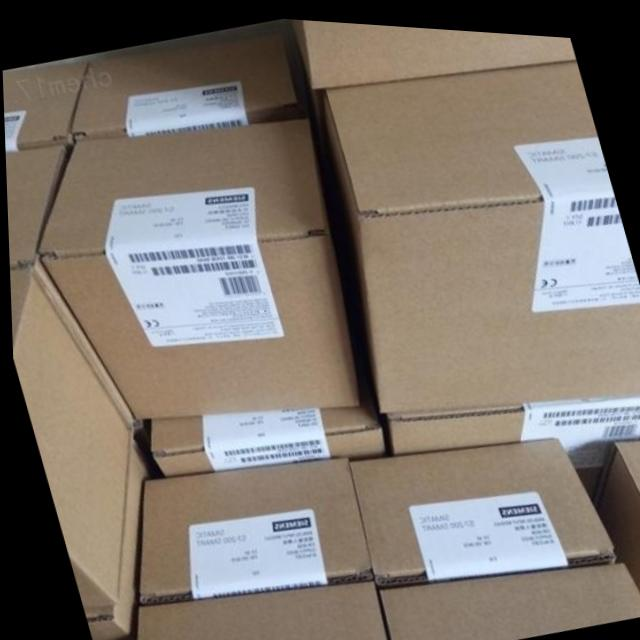box: (322, 51, 640, 409), (34, 114, 357, 420), (8, 257, 127, 614), (345, 429, 618, 584), (132, 452, 369, 604), (66, 18, 306, 145), (381, 387, 640, 488), (372, 554, 640, 640), (291, 15, 575, 85), (131, 571, 384, 640), (146, 399, 388, 471), (81, 417, 151, 640), (4, 146, 71, 265), (590, 431, 640, 589), (2, 54, 85, 149)
